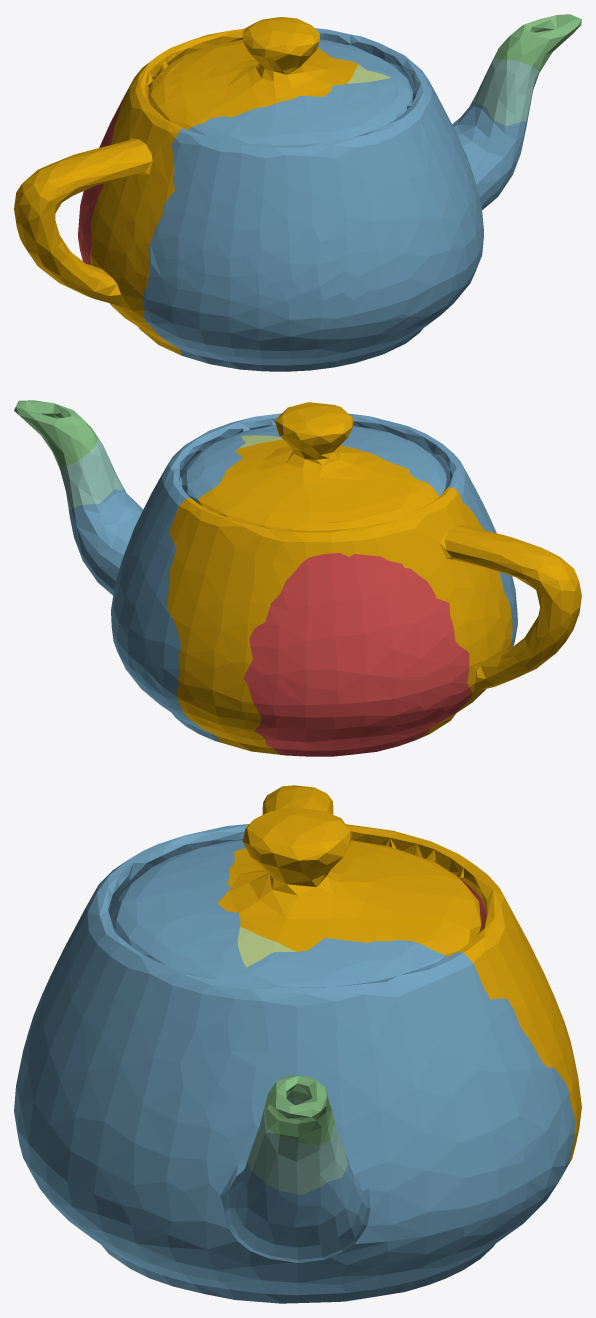
The model's file is fractured_52_6pcs.glb.
3 views of the same model, one above another, from view 1: azimuth 30°, elevation 25°; view 2: azimuth 150°, elevation 25°; view 3: azimuth 270°, elevation 25° (orthographic). The views are drawn at different scales.
Visible parts, largest first — view 1: piece_2.obj, piece_0.obj, piece_4.obj, piece_3.obj, piece_1.obj; view 2: piece_0.obj, piece_1.obj, piece_2.obj, piece_3.obj, piece_4.obj; view 3: piece_2.obj, piece_0.obj, piece_4.obj, piece_3.obj, piece_5.obj.
Part boxes in pixels (x1,y1,x2,y2): piece_2.obj: (142, 28, 527, 371); piece_0.obj: (14, 17, 358, 355); piece_4.obj: (473, 58, 539, 125); piece_3.obj: (494, 14, 581, 72); piece_1.obj: (78, 84, 150, 307); piece_0.obj: (167, 402, 581, 754); piece_1.obj: (243, 553, 472, 756); piece_2.obj: (68, 413, 517, 742); piece_3.obj: (14, 400, 97, 469); piece_4.obj: (60, 435, 123, 510); piece_2.obj: (14, 824, 575, 1303); piece_0.obj: (217, 785, 581, 1164); piece_4.obj: (247, 1098, 347, 1194); piece_3.obj: (264, 1075, 334, 1145); piece_5.obj: (237, 926, 295, 967).
Size of the model in its own units: 1 by 0.496 by 0.6271.
